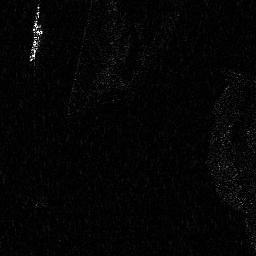ship: (28, 23, 42, 60)
